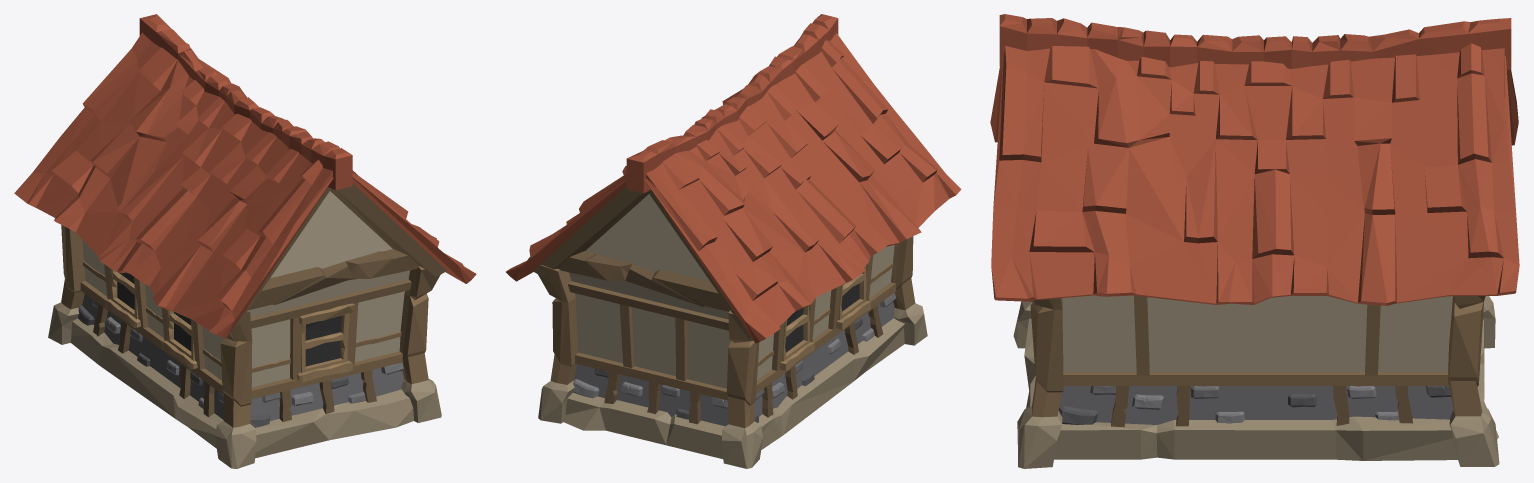
File: SM_Bld_House_Room_03.gltf
The picture shows the model from 3 angles, left to right: view 1: azimuth 30°, elevation 25°; view 2: azimuth 150°, elevation 25°; view 3: azimuth 270°, elevation 25°; orthographic projection. The views are drawn at different scales.
Visible parts, largest first — view 1: SM_Bld_House_Room_03; view 2: SM_Bld_House_Room_03; view 3: SM_Bld_House_Room_03.
Boxes of the visible parts, x1,y1,x2,y2 form: SM_Bld_House_Room_03: (14,14,476,468); SM_Bld_House_Room_03: (506,14,961,468); SM_Bld_House_Room_03: (990,14,1519,468).
Bounding box in the file's own units: 5.04 × 5.09 × 6.38.
Materials: 1 (1 with a texture image).
